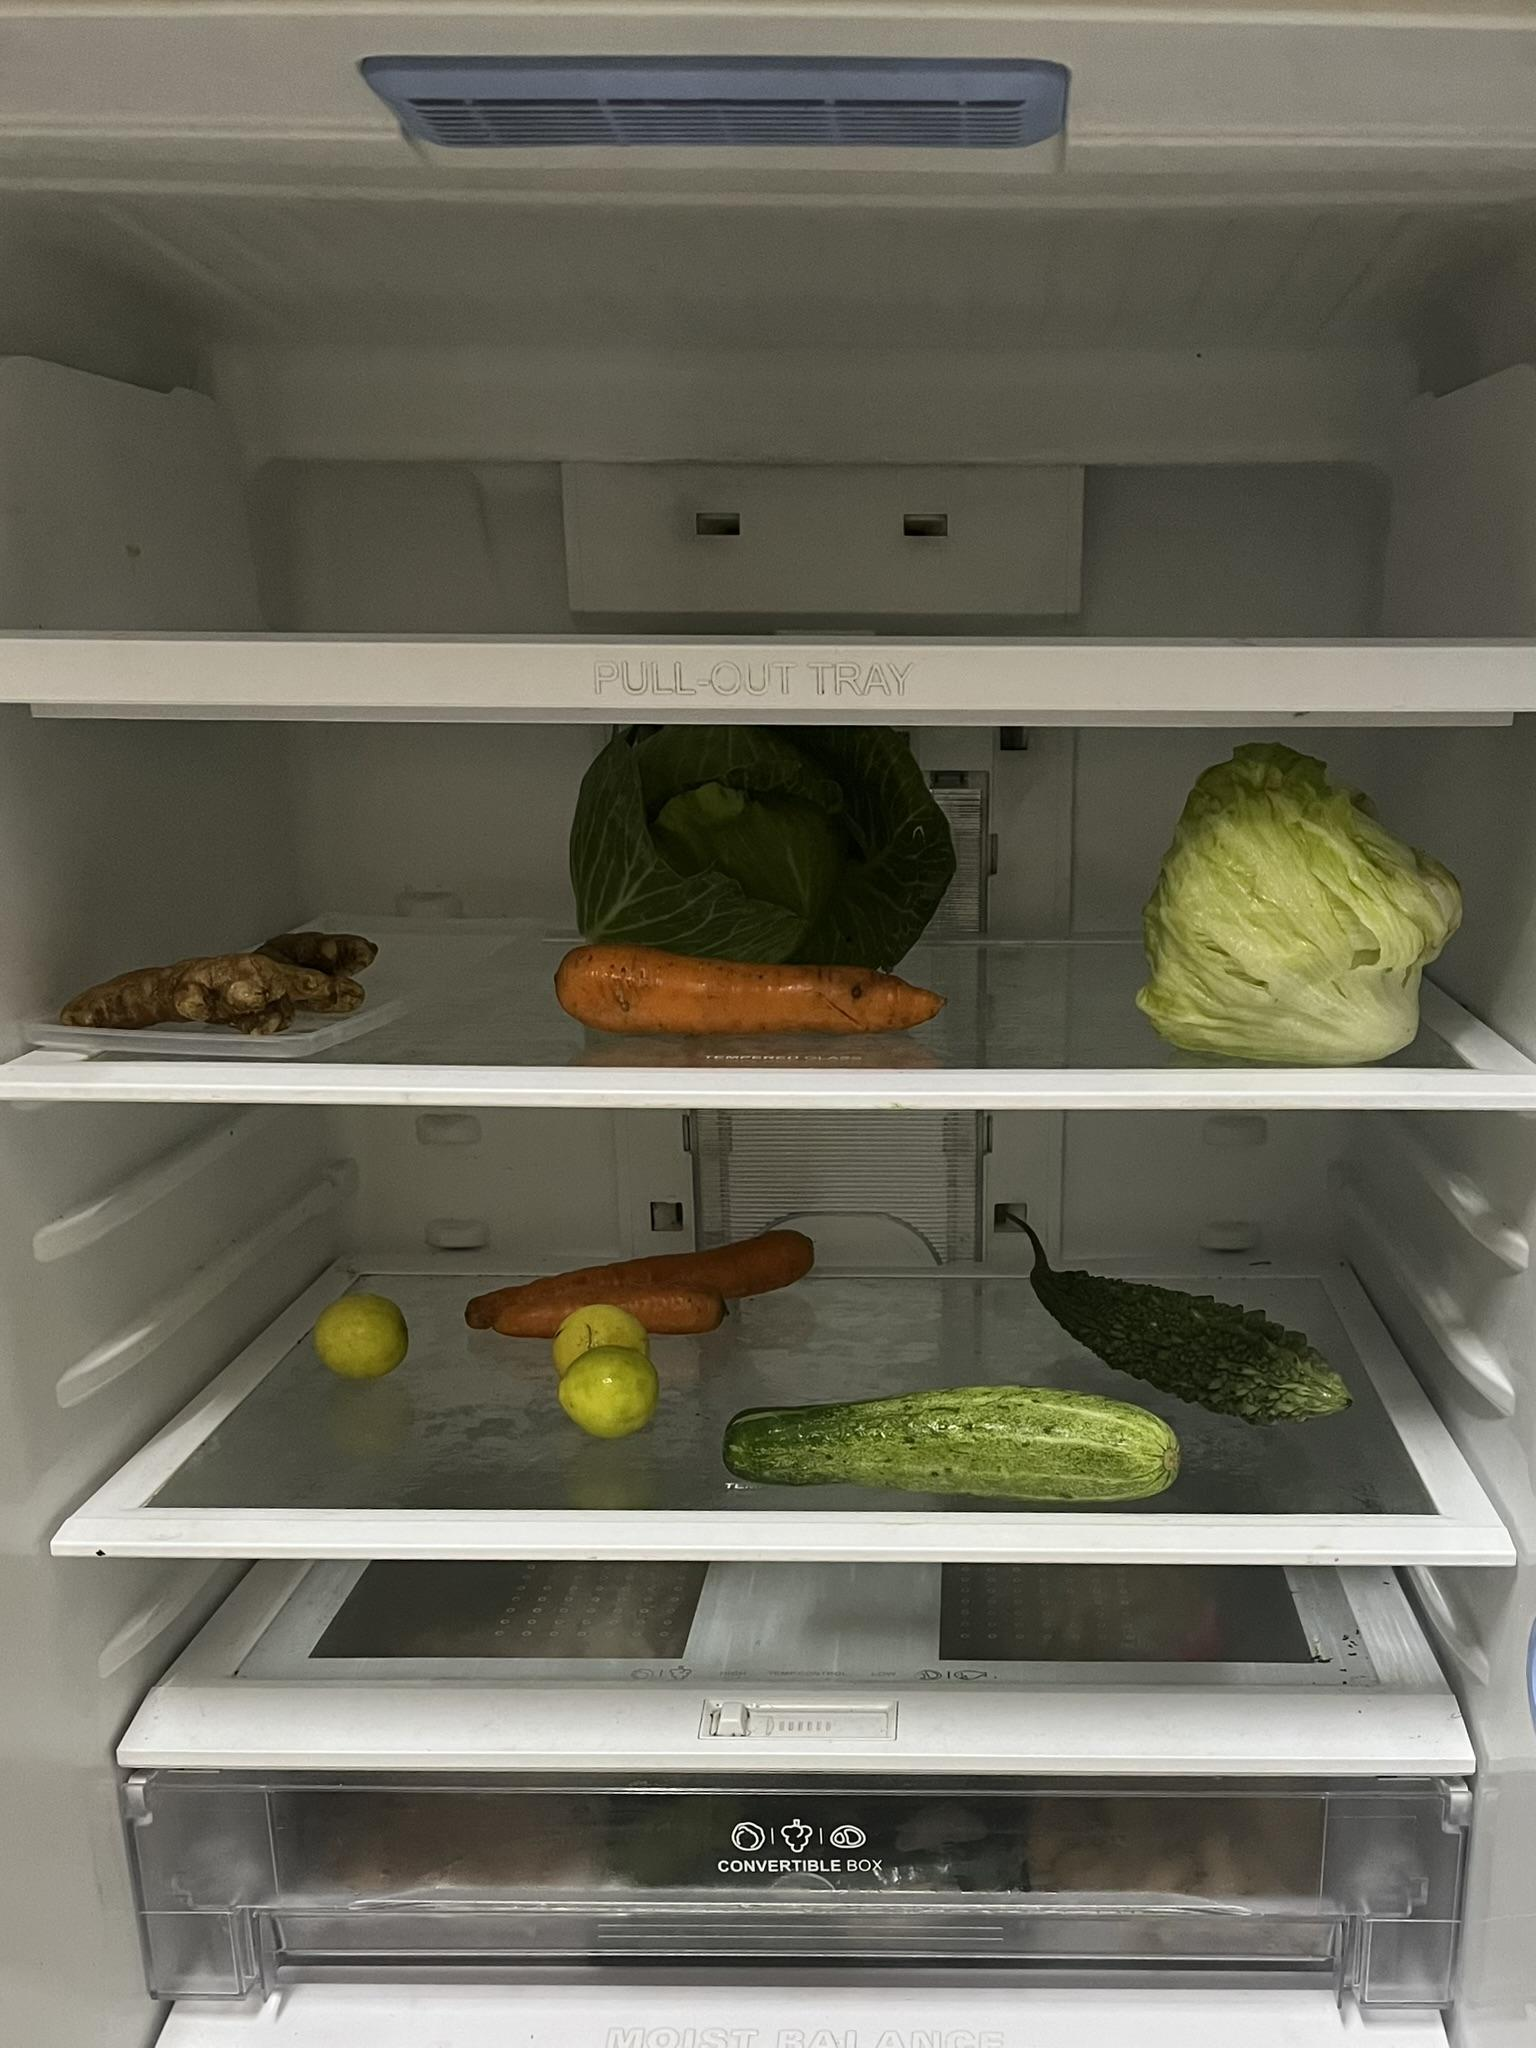bitter gaurd: (1021, 1247, 1347, 1427)
cabbage: (566, 732, 971, 968)
carrots: (447, 1232, 831, 1334), (547, 937, 941, 1030)
cucumber: (703, 1395, 1200, 1501)
ginger: (55, 916, 366, 1040)
lemon: (552, 1301, 662, 1455), (311, 1297, 411, 1377)
lettuce: (1131, 737, 1454, 1045)
